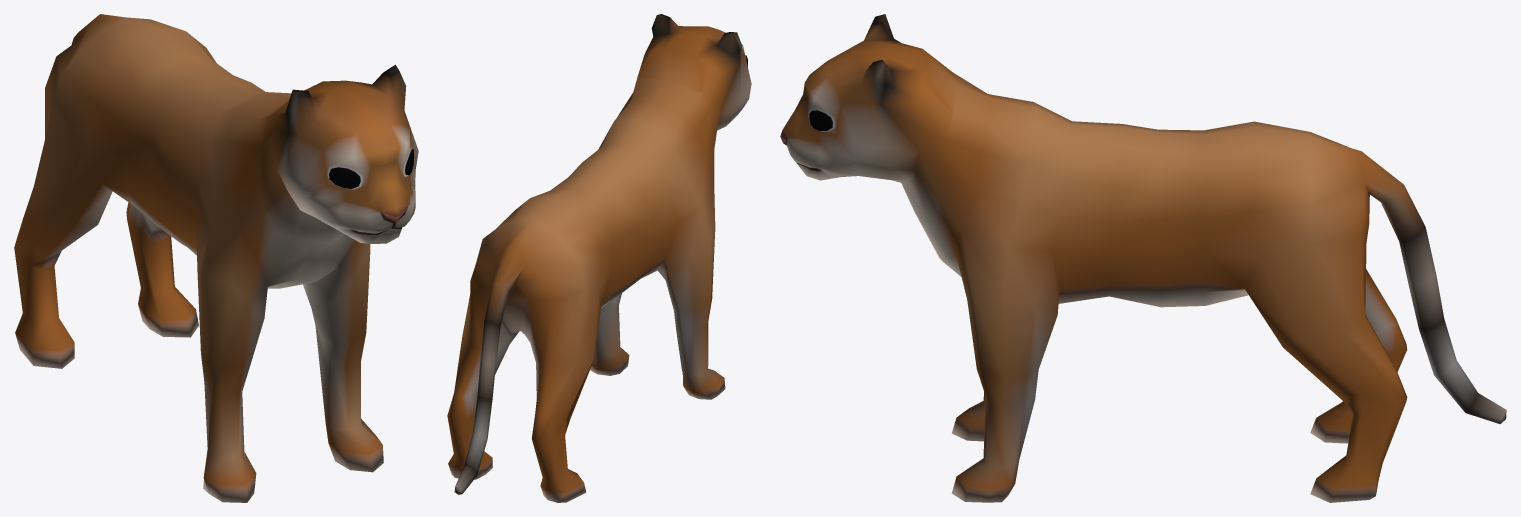
Rendered from animals-animals-tiger_v1.fbx.
3 views of the same model, side by side, from view 1: azimuth 30°, elevation 25°; view 2: azimuth 150°, elevation 25°; view 3: azimuth 270°, elevation 25° (orthographic). The views are drawn at different scales.
Parts seen in each view (by area): view 1: Tiger.001; view 2: Tiger.001; view 3: Tiger.001.
Boxes of the visible parts, <box> form: Tiger.001: <box>14,14,418,502</box>; Tiger.001: <box>447,14,751,502</box>; Tiger.001: <box>780,14,1506,502</box>.
Bounding box in the file's own units: 0.5835 × 1.41 × 2.18.
